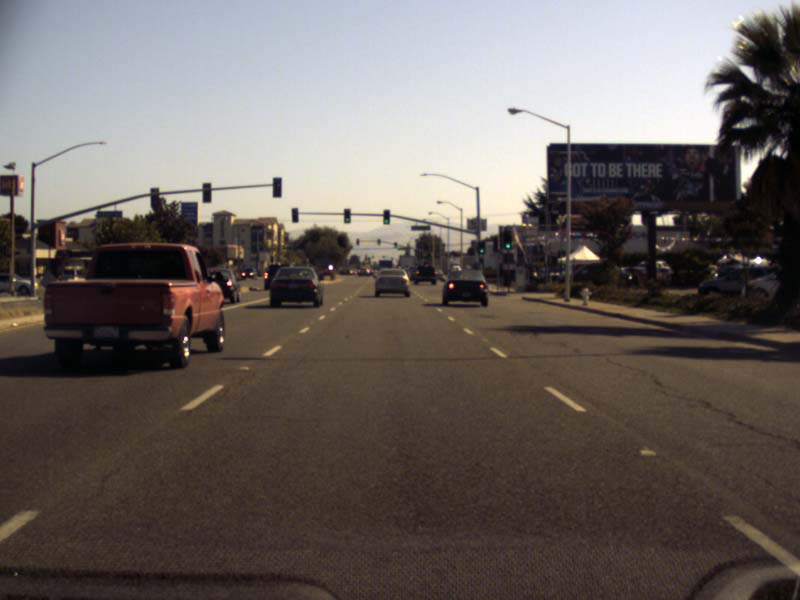Green: (504, 232, 511, 248), (344, 209, 350, 223), (383, 210, 389, 223), (478, 241, 484, 253)
